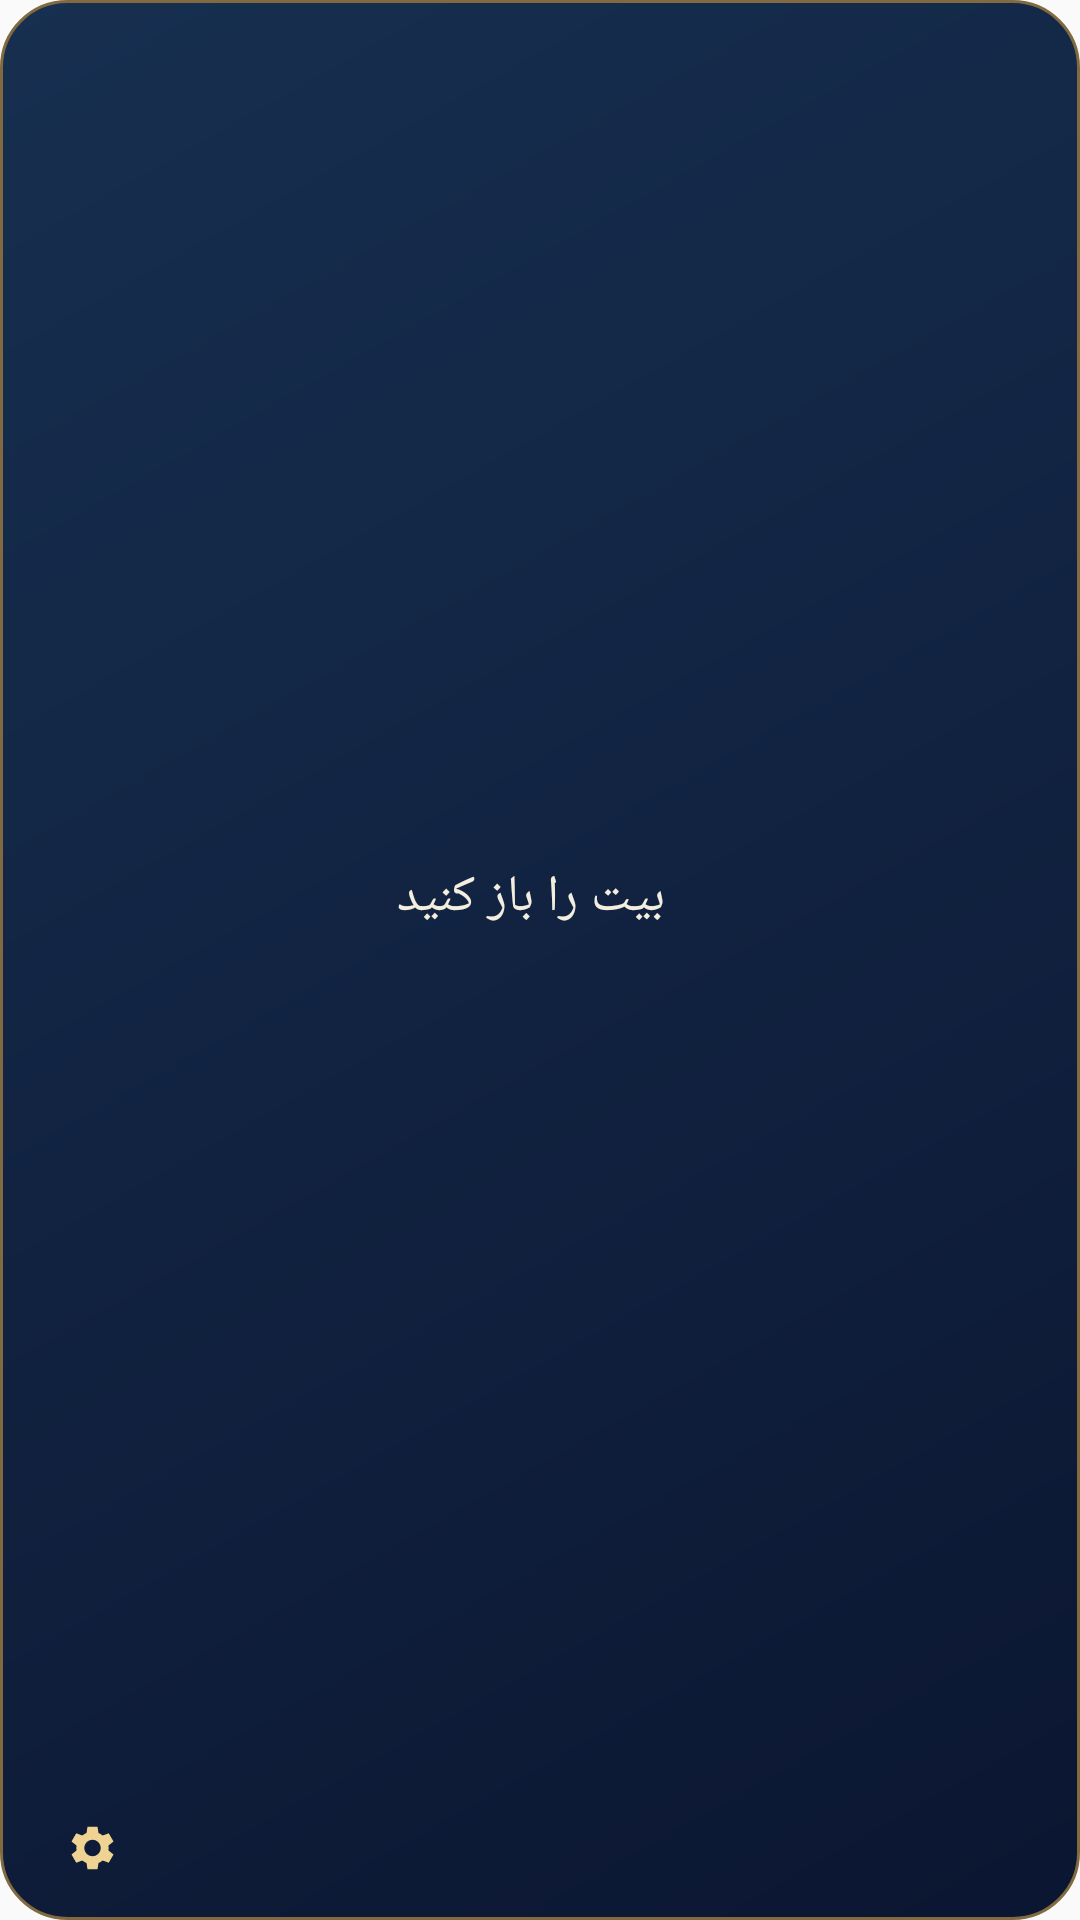

Icons on this 1080*1920 Android screen, each with its box as (x1, y1, x2, y2):
تنظیمات ابزارک: (71, 1826, 114, 1870)
